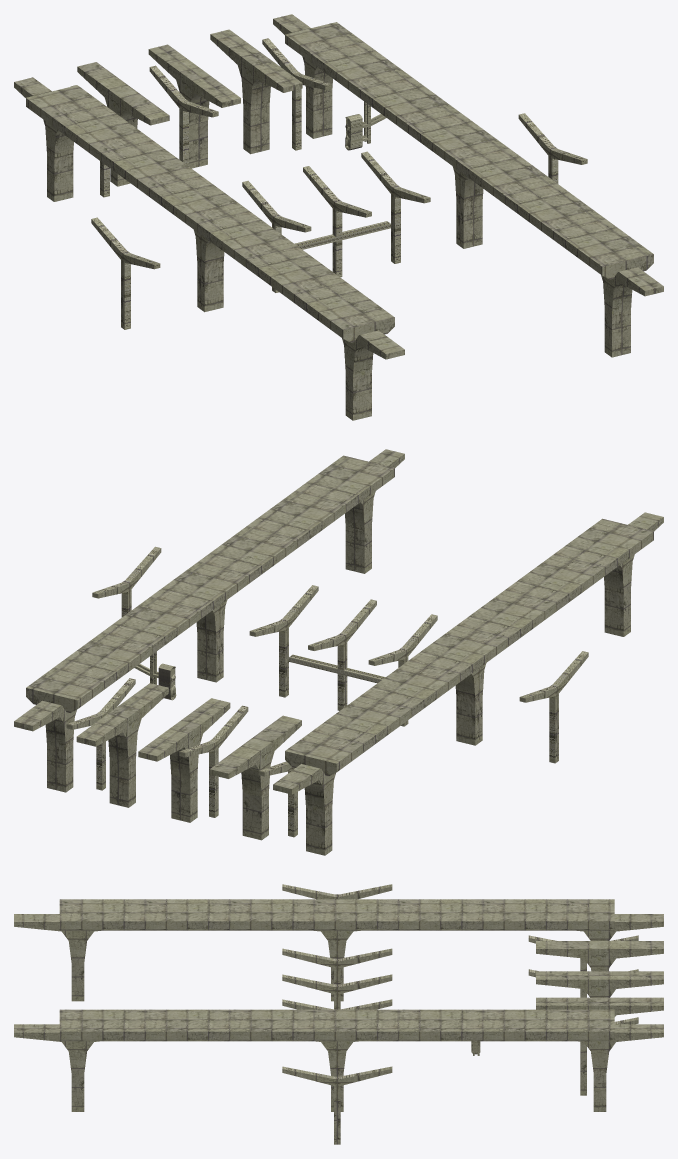
Rendered from SM_Republic_02_00.010.fbx.
The picture shows the model from 3 angles, top to bottom: view 1: azimuth 30°, elevation 25°; view 2: azimuth 150°, elevation 25°; view 3: azimuth 270°, elevation 25°; orthographic projection. The views are drawn at different scales.
Parts seen in each view (by area): view 1: SM_Republic_02_00.010; view 2: SM_Republic_02_00.010; view 3: SM_Republic_02_00.010.
Part boxes in pixels (bbox=[...]): SM_Republic_02_00.010: bbox=[14, 14, 663, 420]; SM_Republic_02_00.010: bbox=[14, 449, 663, 855]; SM_Republic_02_00.010: bbox=[14, 884, 663, 1144].
Bounding box in the file's own units: 4017 × 882 × 5968.
